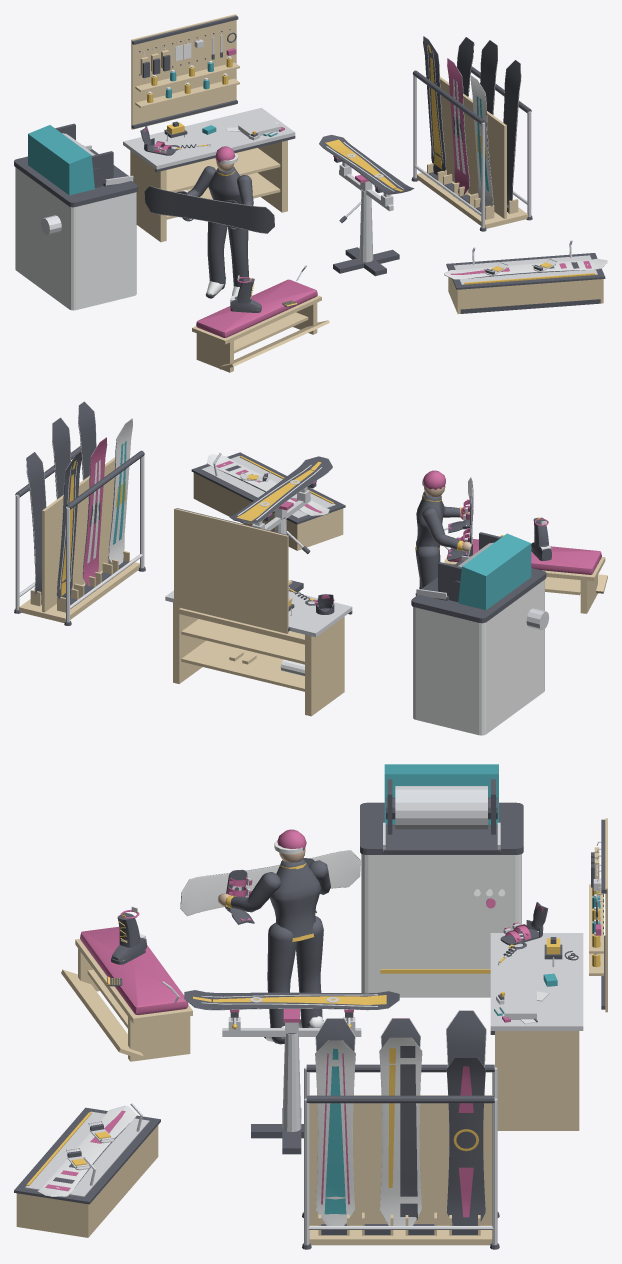
Rendered from snowboard-gear-and-freestyle-riders-tuning-workshop-89db57fd__27191.glb.
3 renders of one model, top to bottom at view 1: azimuth 30°, elevation 25°; view 2: azimuth 150°, elevation 25°; view 3: azimuth 270°, elevation 25°, orthographic. The views are drawn at different scales.
Visible parts, largest first — view 1: 005-base-grinder/0, 000-tool-wall/0, 014-shop-assistant-presenting-board/0, 006-floor-board-rack-stocked/1, 001-wax-bench/0, 006-floor-board-rack-stocked/2, 001-wax-bench/1, 007-fitting-bench/0, 012-display-podium/0, 005-base-grinder/3, 007-fitting-bench/1, 005-base-grinder/1 (+15 smaller); view 2: 005-base-grinder/0, 000-tool-wall/0, 001-wax-bench/0, 006-floor-board-rack-stocked/1, 006-floor-board-rack-stocked/2, 005-base-grinder/3, 014-shop-assistant-presenting-board/0, 005-base-grinder/1, 006-floor-board-rack-stocked/0, 012-display-podium/0, 006-floor-board-rack-stocked/3, 007-fitting-bench/0 (+14 smaller); view 3: 005-base-grinder/0, 006-floor-board-rack-stocked/1, 006-floor-board-rack-stocked/2, 014-shop-assistant-presenting-board/0, 001-wax-bench/0, 006-floor-board-rack-stocked/3, 001-wax-bench/1, 005-base-grinder/1, 007-fitting-bench/0, 012-display-podium/0, 005-base-grinder/2, 007-fitting-bench/1 (+18 smaller).
Part boxes in pixels (x1,y1,x2,y2): 005-base-grinder/0: (15,167,136,310); 000-tool-wall/0: (131,14,239,129); 014-shop-assistant-presenting-board/0: (144,166,274,298); 006-floor-board-rack-stocked/1: (411,36,532,231); 001-wax-bench/0: (130,140,287,242); 006-floor-board-rack-stocked/2: (417,76,527,228); 001-wax-bench/1: (123,108,295,169); 007-fitting-bench/0: (192,295,329,372); 012-display-podium/0: (448,277,603,313); 005-base-grinder/3: (28,125,94,195); 007-fitting-bench/1: (196,279,317,337); 005-base-grinder/1: (14,123,137,207); 005-base-grinder/0: (413,579,544,735); 000-tool-wall/0: (174,508,292,633); 001-wax-bench/0: (173,602,344,716); 006-floor-board-rack-stocked/1: (14,401,145,625); 006-floor-board-rack-stocked/2: (19,457,139,622); 005-base-grinder/3: (458,533,531,610); 014-shop-assistant-presenting-board/0: (416,482,473,589); 005-base-grinder/1: (411,532,546,623); 006-floor-board-rack-stocked/0: (15,402,144,622); 012-display-podium/0: (193,473,343,550); 006-floor-board-rack-stocked/3: (52,402,132,589); 007-fitting-bench/0: (444,557,607,613); 005-base-grinder/0: (361,854,521,997); 006-floor-board-rack-stocked/1: (302,1010,499,1249); 006-floor-board-rack-stocked/2: (308,1095,493,1245); 014-shop-assistant-presenting-board/0: (180,850,359,1044); 001-wax-bench/0: (495,1031,579,1130); 006-floor-board-rack-stocked/3: (315,1018,422,1225); 001-wax-bench/1: (490,933,583,1030); 005-base-grinder/1: (360,779,523,854); 007-fitting-bench/0: (61,939,192,1061); 012-display-podium/0: (16,1125,158,1237); 005-base-grinder/2: (383,786,500,851); 007-fitting-bench/1: (80,926,188,1015).
Bounding box in the file's own units: 5.3 × 1.9 × 4.36.
